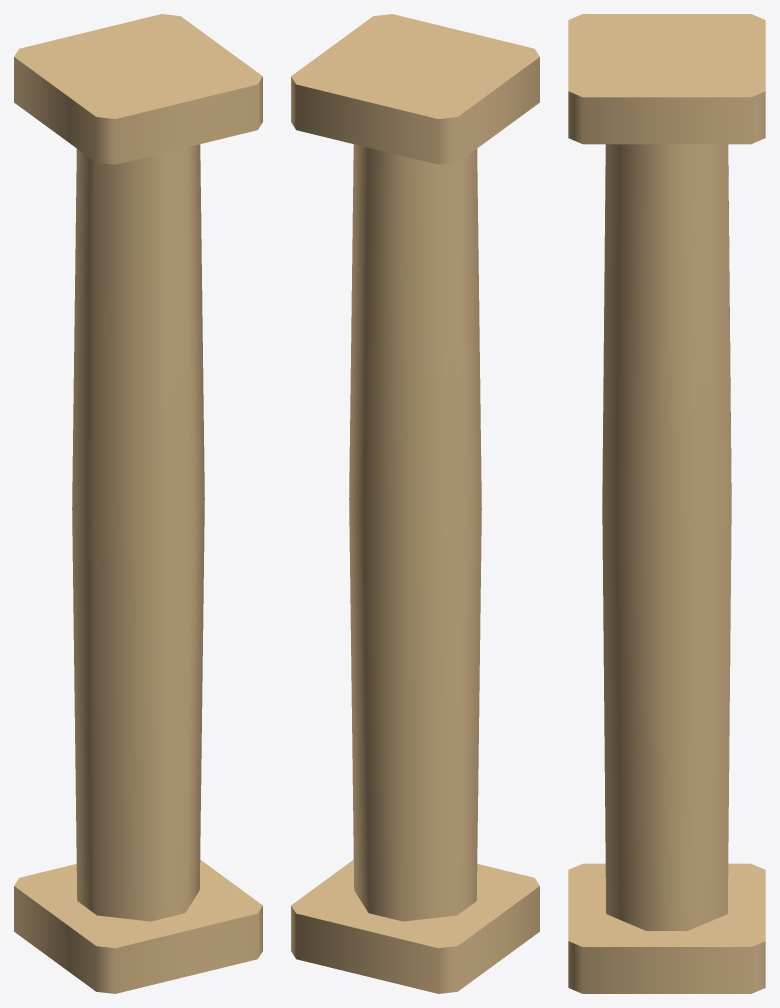
File: PillarBig.gltf
The picture shows the model from 3 angles, left to right: view 1: azimuth 30°, elevation 25°; view 2: azimuth 150°, elevation 25°; view 3: azimuth 270°, elevation 25°; orthographic projection. The views are drawn at different scales.
Parts seen in each view (by area): view 1: PillarBig; view 2: PillarBig; view 3: PillarBig.
Boxes of the visible parts, bbox=[...] form: PillarBig: bbox=[14, 14, 262, 993]; PillarBig: bbox=[291, 14, 539, 993]; PillarBig: bbox=[568, 14, 765, 993].
Bounding box in the file's own units: 0.5982 × 3 × 0.5982.
